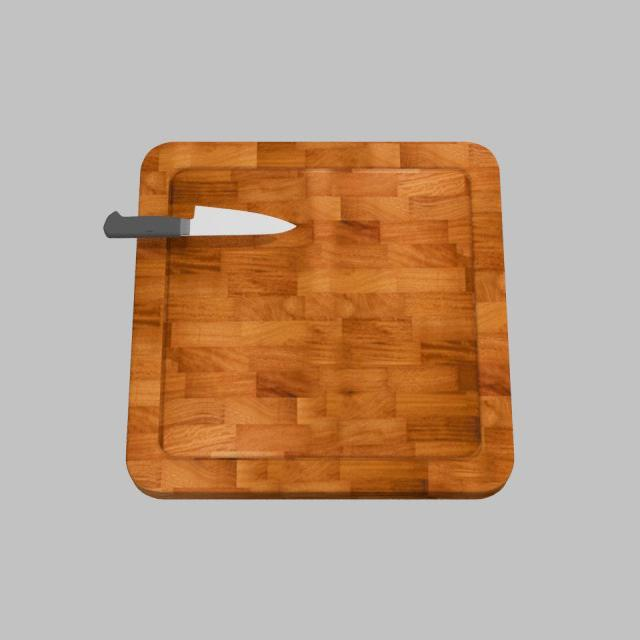knife: (104, 212, 182, 238)
